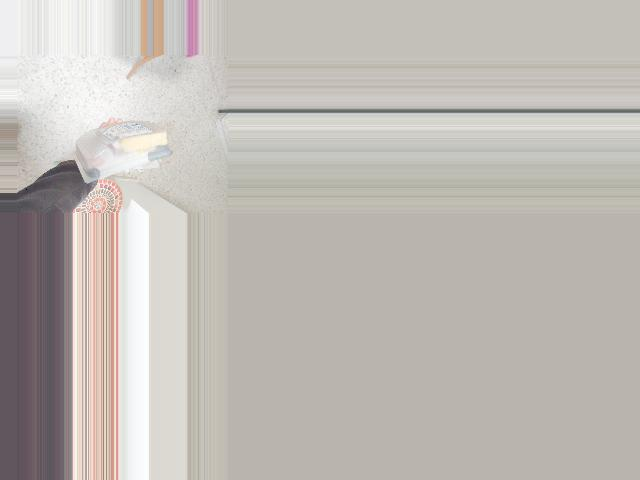cheese: (75, 120, 175, 190)
